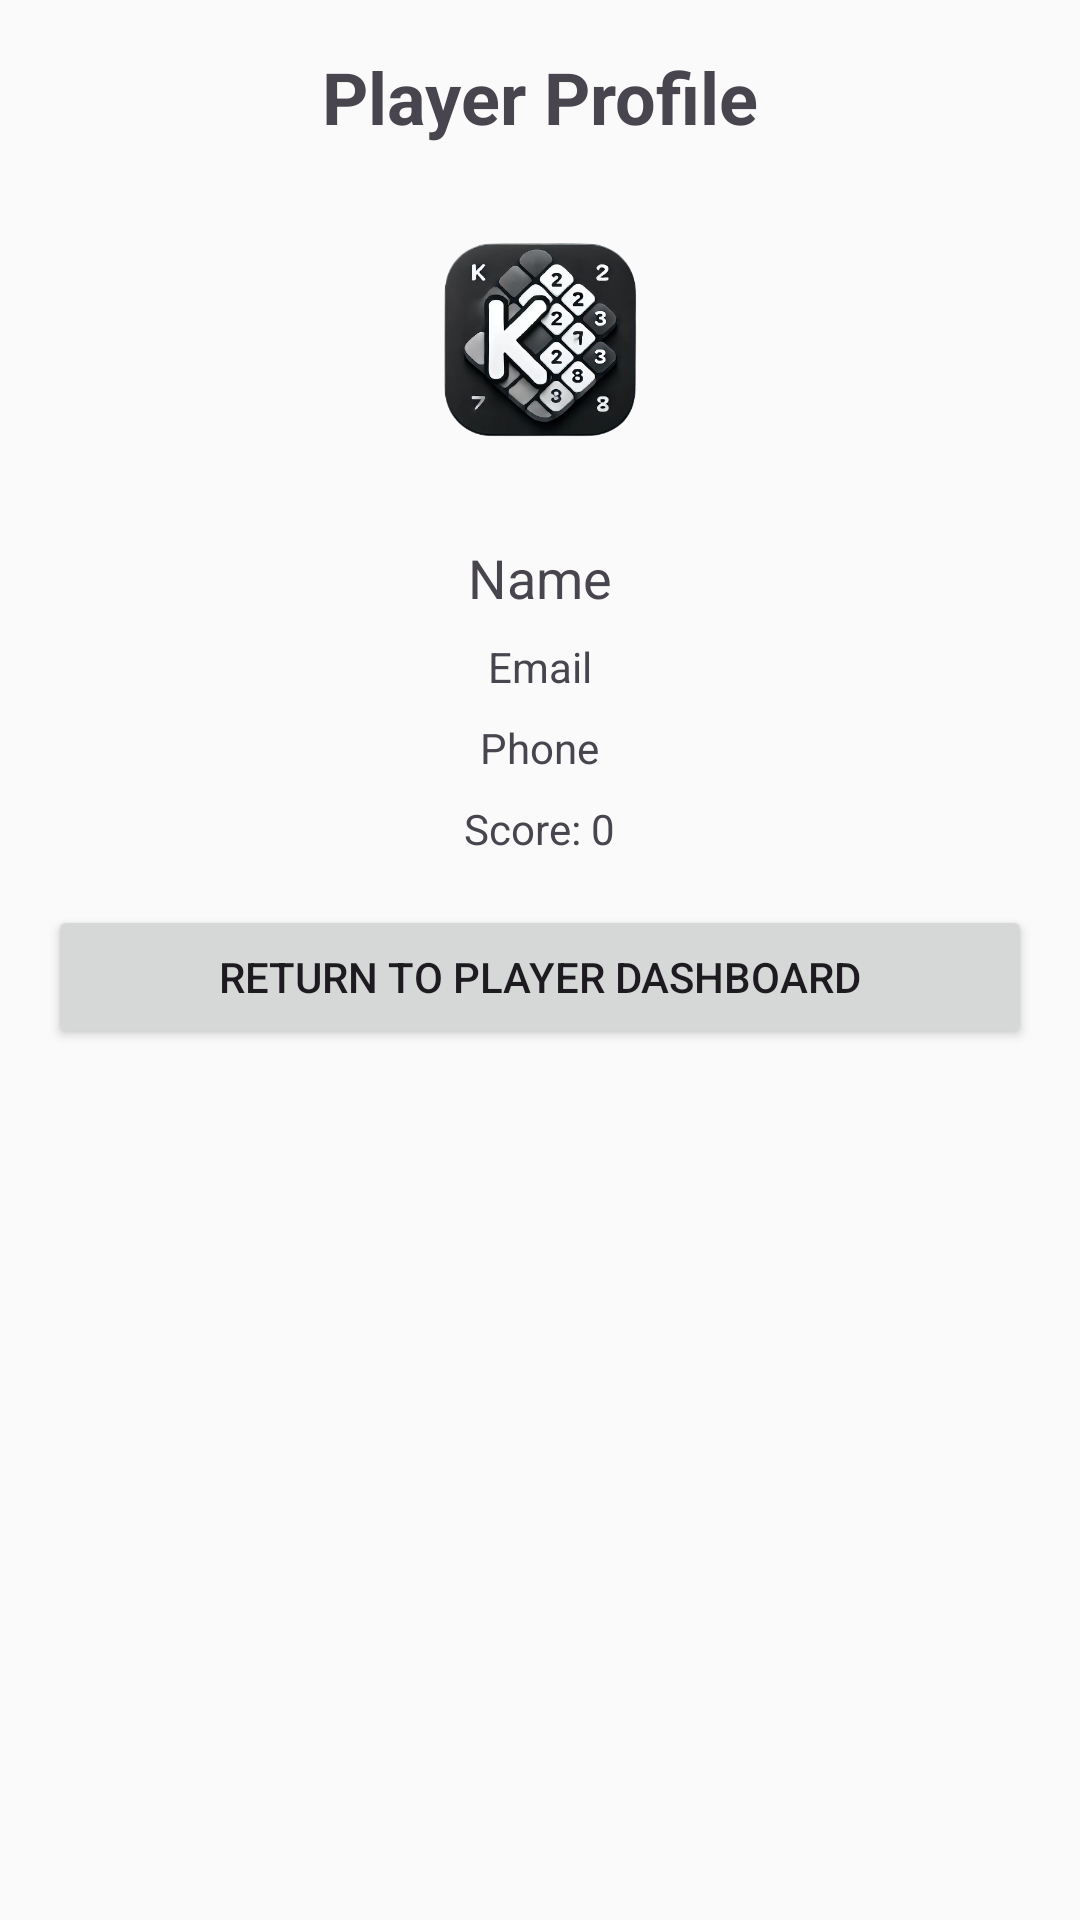

Screen size 1080w x 1920h. Icon name, then its box in pixels as [x1, y1, x2, y2]:
kakuro game: [444, 243, 636, 436]
